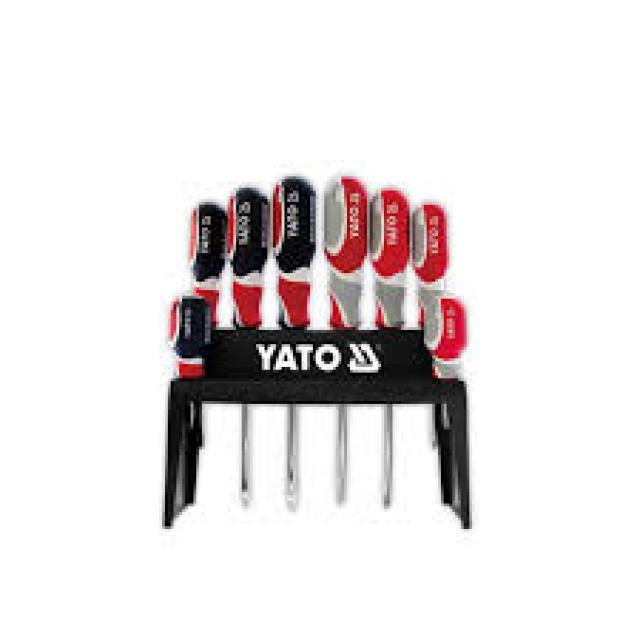screwdriver: (314, 168, 372, 515), (270, 170, 316, 514), (226, 190, 275, 510), (367, 180, 412, 522)
